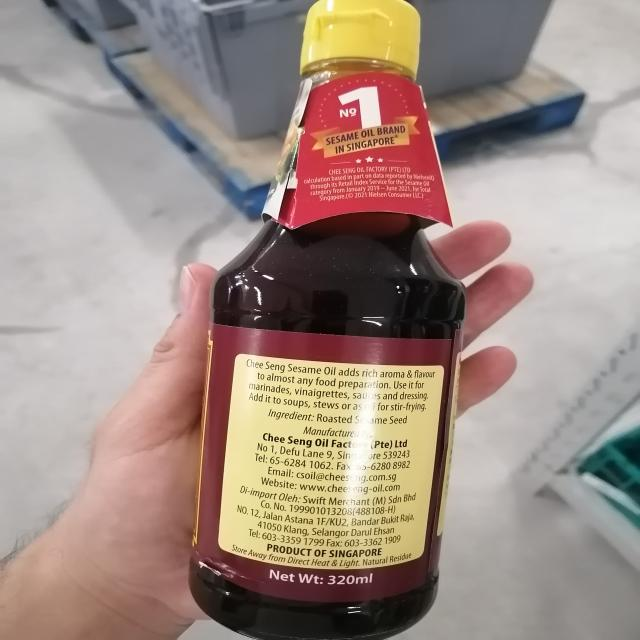object_name: (199, 5, 445, 640)
